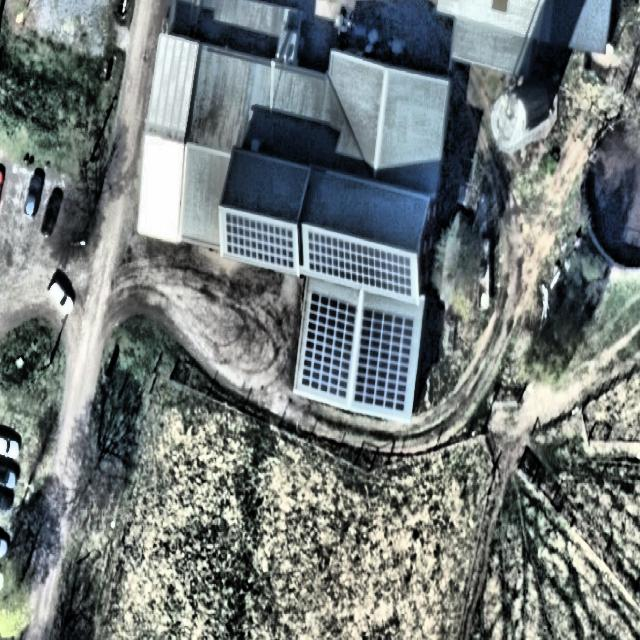roof_pv: (304, 229, 418, 297), (352, 305, 413, 416), (301, 294, 358, 400), (226, 208, 297, 273)
